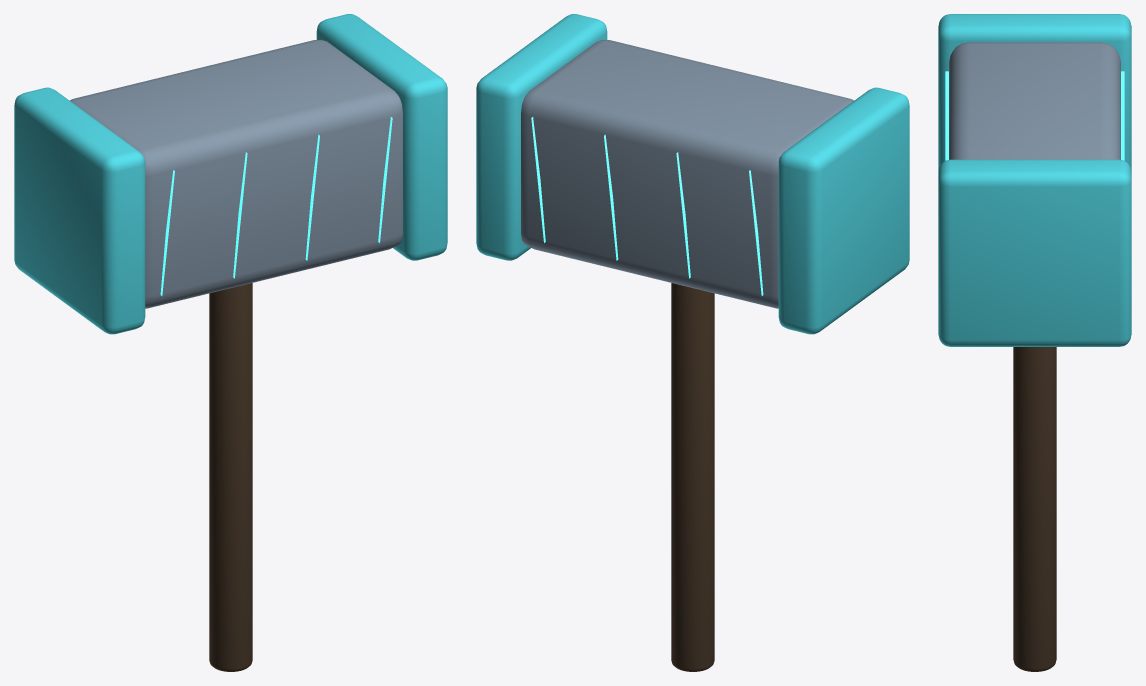
Rendered from hammer_v6.glb.
3 views of the same model, side by side, from view 1: azimuth 30°, elevation 25°; view 2: azimuth 150°, elevation 25°; view 3: azimuth 270°, elevation 25° (orthographic).
Visible parts, largest first — view 1: QUAKE_SLAB_PRIMARY, QUAKE_FACE_ACCENT, HAMMER_SHAFT_SECONDARY, QUAKE_FACE_ACCENT.001; view 2: QUAKE_SLAB_PRIMARY, QUAKE_FACE_ACCENT, HAMMER_SHAFT_SECONDARY, QUAKE_FACE_ACCENT.001; view 3: QUAKE_FACE_ACCENT.001, QUAKE_SLAB_PRIMARY, HAMMER_SHAFT_SECONDARY, QUAKE_FACE_ACCENT.
Part boxes in pixels (<box>): QUAKE_SLAB_PRIMARY: <box>70,39,402,308</box>; QUAKE_FACE_ACCENT: <box>14,87,145,334</box>; HAMMER_SHAFT_SECONDARY: <box>209,283,252,671</box>; QUAKE_FACE_ACCENT.001: <box>316,14,447,260</box>; QUAKE_SLAB_PRIMARY: <box>521,39,853,308</box>; QUAKE_FACE_ACCENT: <box>778,87,909,334</box>; HAMMER_SHAFT_SECONDARY: <box>671,283,714,671</box>; QUAKE_FACE_ACCENT.001: <box>476,14,607,260</box>; QUAKE_FACE_ACCENT.001: <box>938,159,1131,346</box>; QUAKE_SLAB_PRIMARY: <box>949,42,1120,159</box>; HAMMER_SHAFT_SECONDARY: <box>1013,347,1056,671</box>; QUAKE_FACE_ACCENT: <box>938,14,1131,171</box>.
Bounding box in the file's own units: 2.28 × 3.66 × 1.12.
